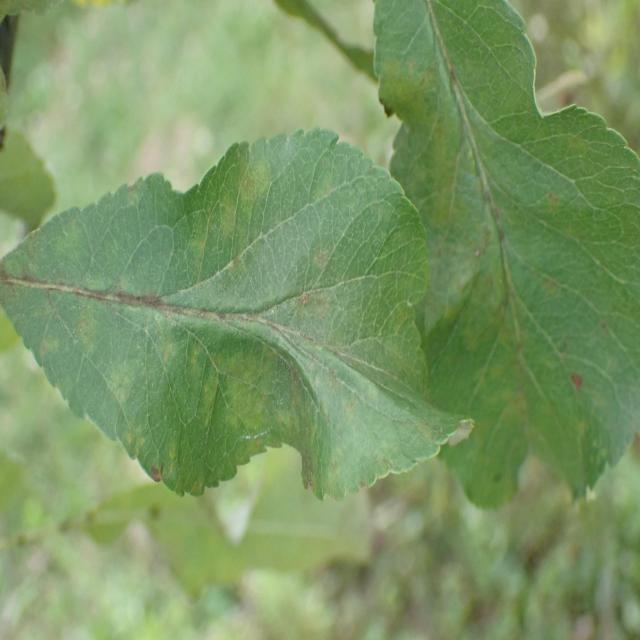scab: (0, 177, 471, 472), (414, 40, 624, 477)
